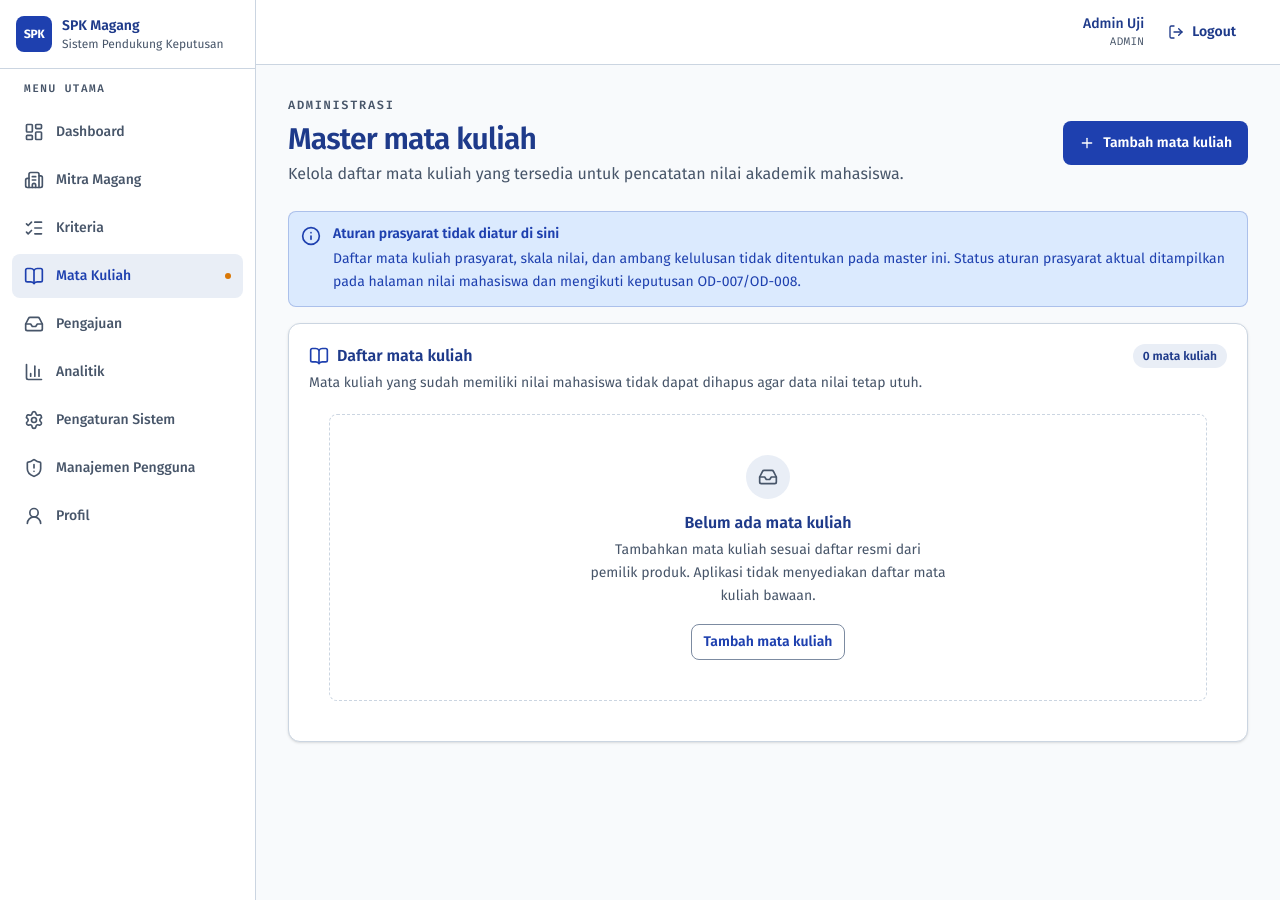
it: CoursesPage › menampilkan empty state dan dapat menambah mata kuliah
Check: the text "Belum ada mata kuliah" is shown, box [684, 511, 851, 535]
Step 1. Click the button "Tambah mata kuliah" in the row of "Master mata kuliah" → (1156, 143), box [1063, 121, 1248, 165]
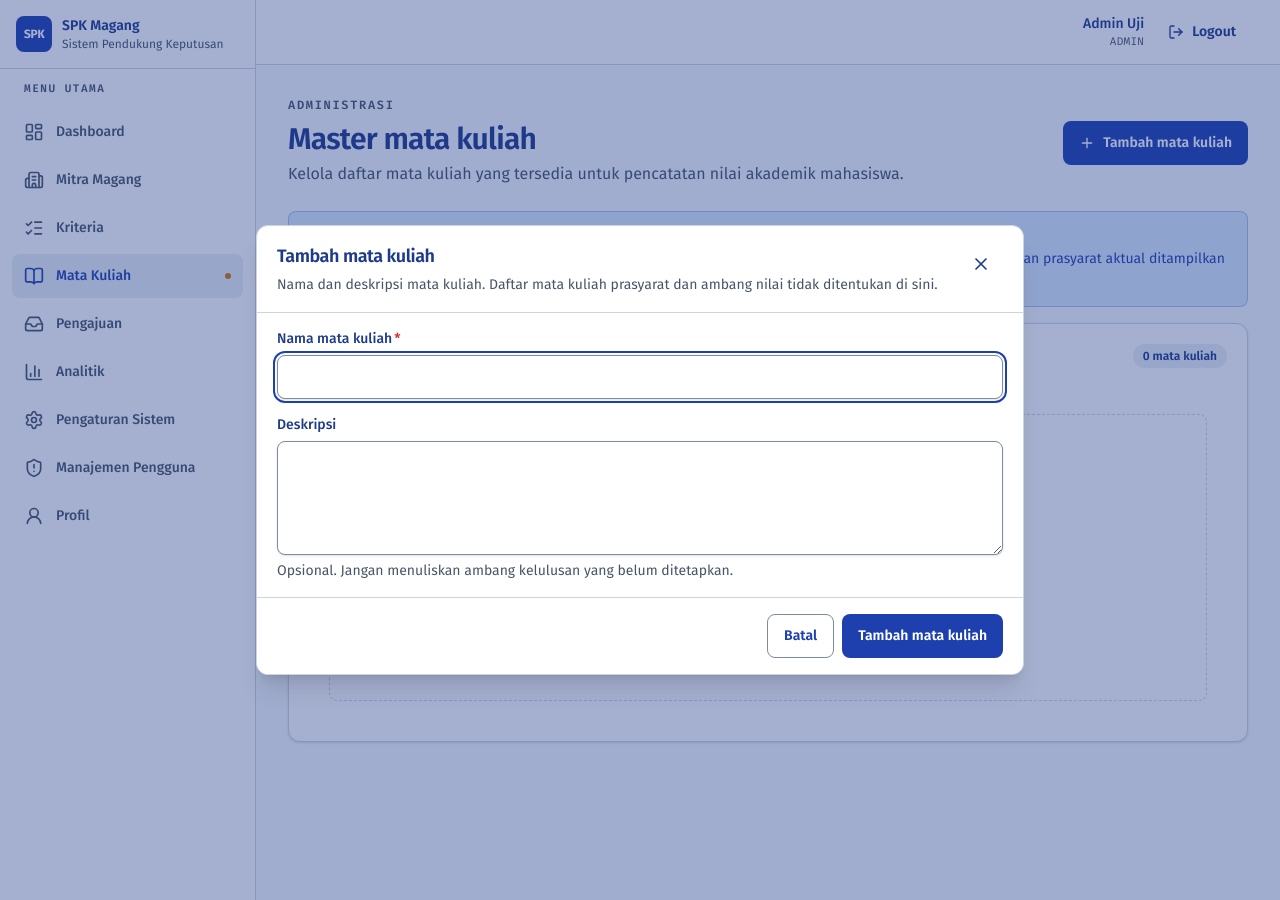
Step 2. Type "Algoritma" into the field labelled "Nama mata kuliah*" → (640, 377), box [277, 355, 1003, 399]
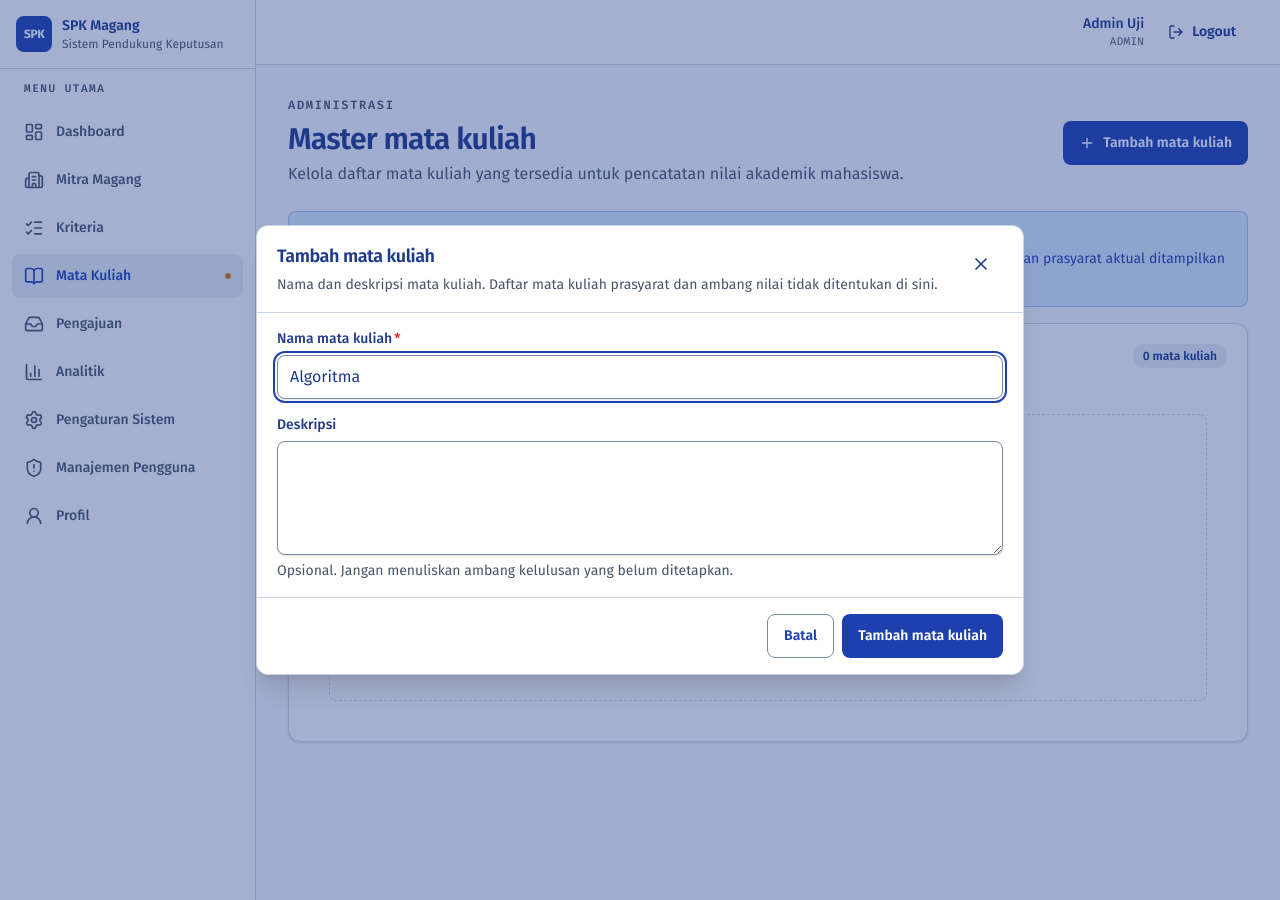
Step 3. Click the button "Tambah mata kuliah" → (923, 636), box [842, 614, 1003, 658]
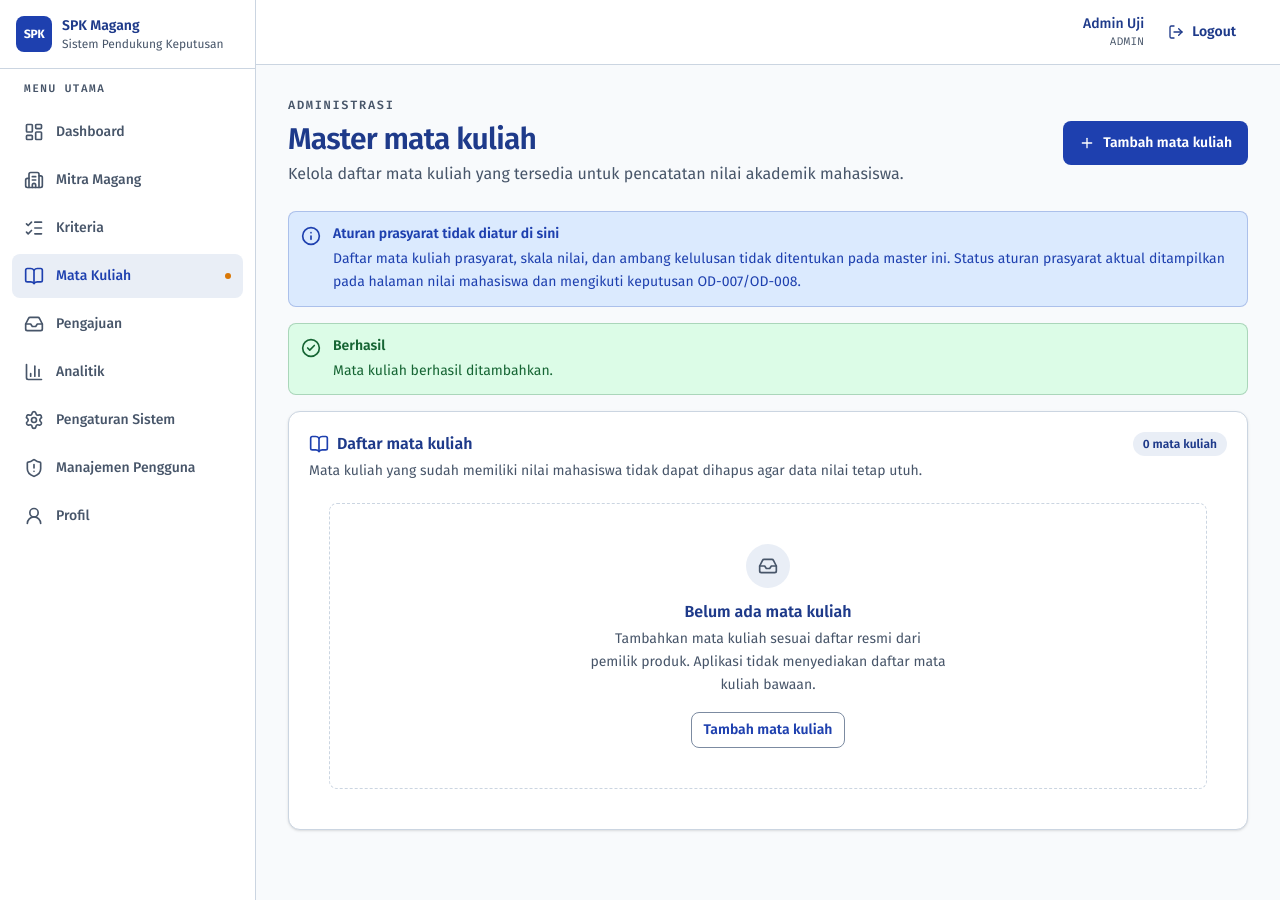
Check: the text "Mata kuliah berhasil ditambahkan." is shown, box [333, 360, 553, 382]
